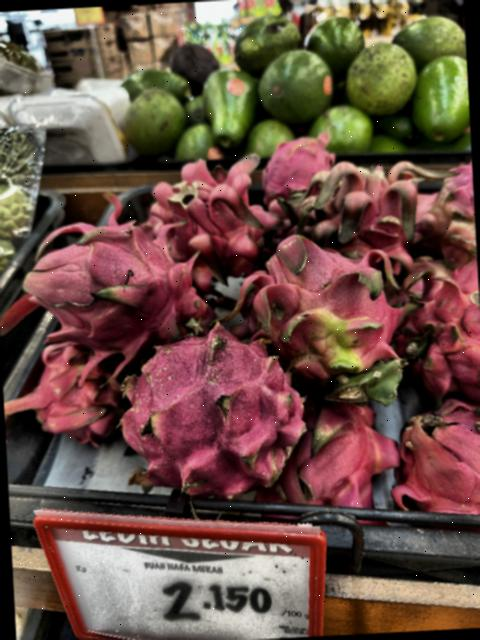buah-naga-belum-matang: (249, 220, 413, 412), (396, 137, 476, 254)
buah-naga-matang: (124, 322, 307, 498), (15, 216, 202, 344), (378, 381, 480, 523), (286, 398, 398, 520), (140, 163, 268, 265), (13, 332, 128, 442), (400, 243, 480, 400), (303, 155, 418, 260), (258, 126, 333, 192)
